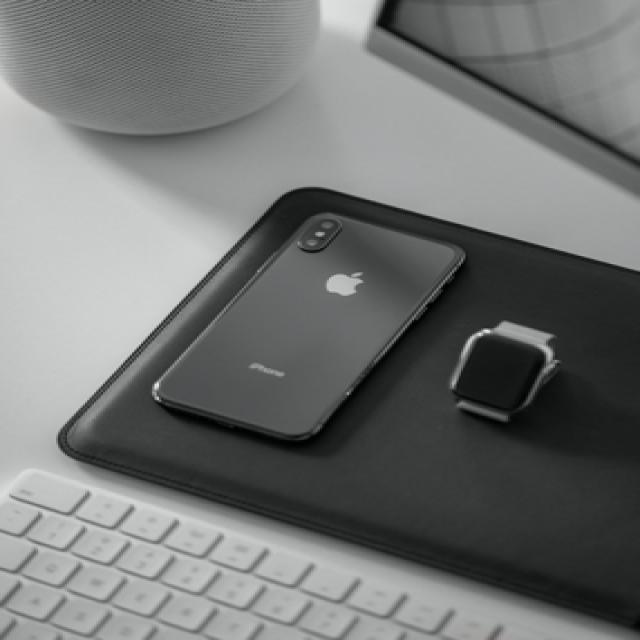cellphone: (150, 209, 465, 442)
